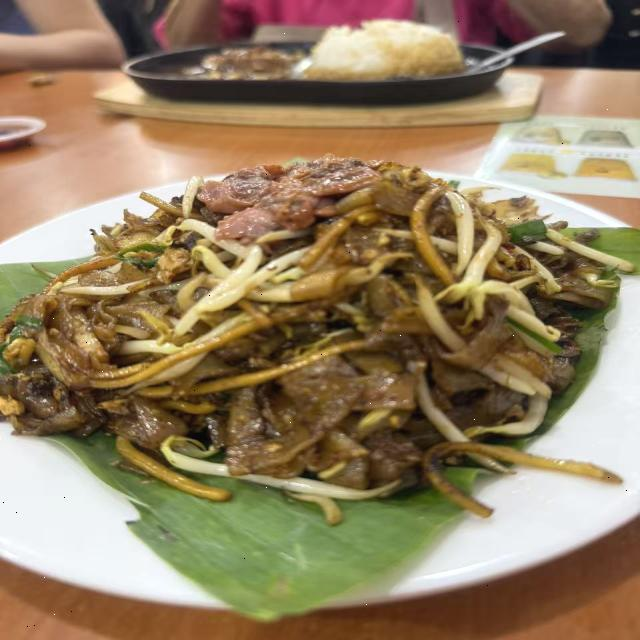Char Kway Teow: (16, 156, 588, 520)
